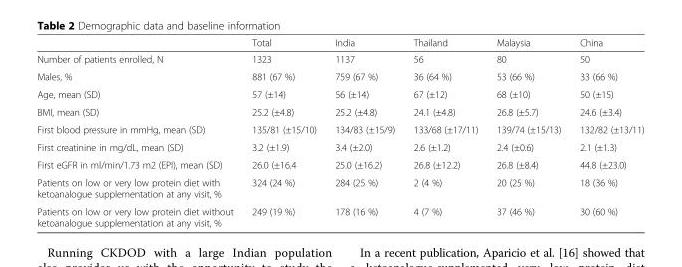table: (36, 36, 643, 228)
table column: (36, 36, 242, 228), (242, 36, 325, 228), (403, 36, 486, 228), (486, 36, 569, 228), (325, 36, 403, 228), (569, 36, 643, 228)
table column header: (36, 36, 643, 50)
table row: (36, 173, 643, 202), (36, 202, 643, 228), (36, 67, 643, 85), (36, 102, 643, 120), (36, 120, 643, 138), (36, 155, 643, 173), (36, 50, 643, 67), (36, 85, 643, 102), (36, 138, 643, 155), (36, 36, 643, 50)
